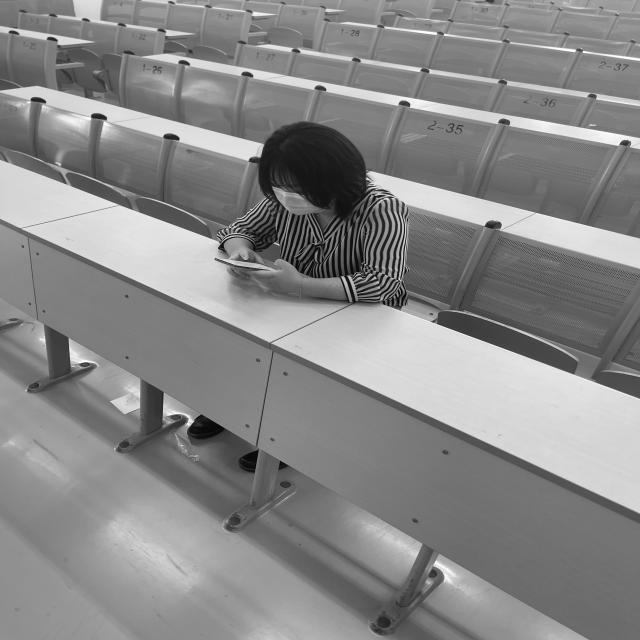phone: (218, 121, 409, 301)
